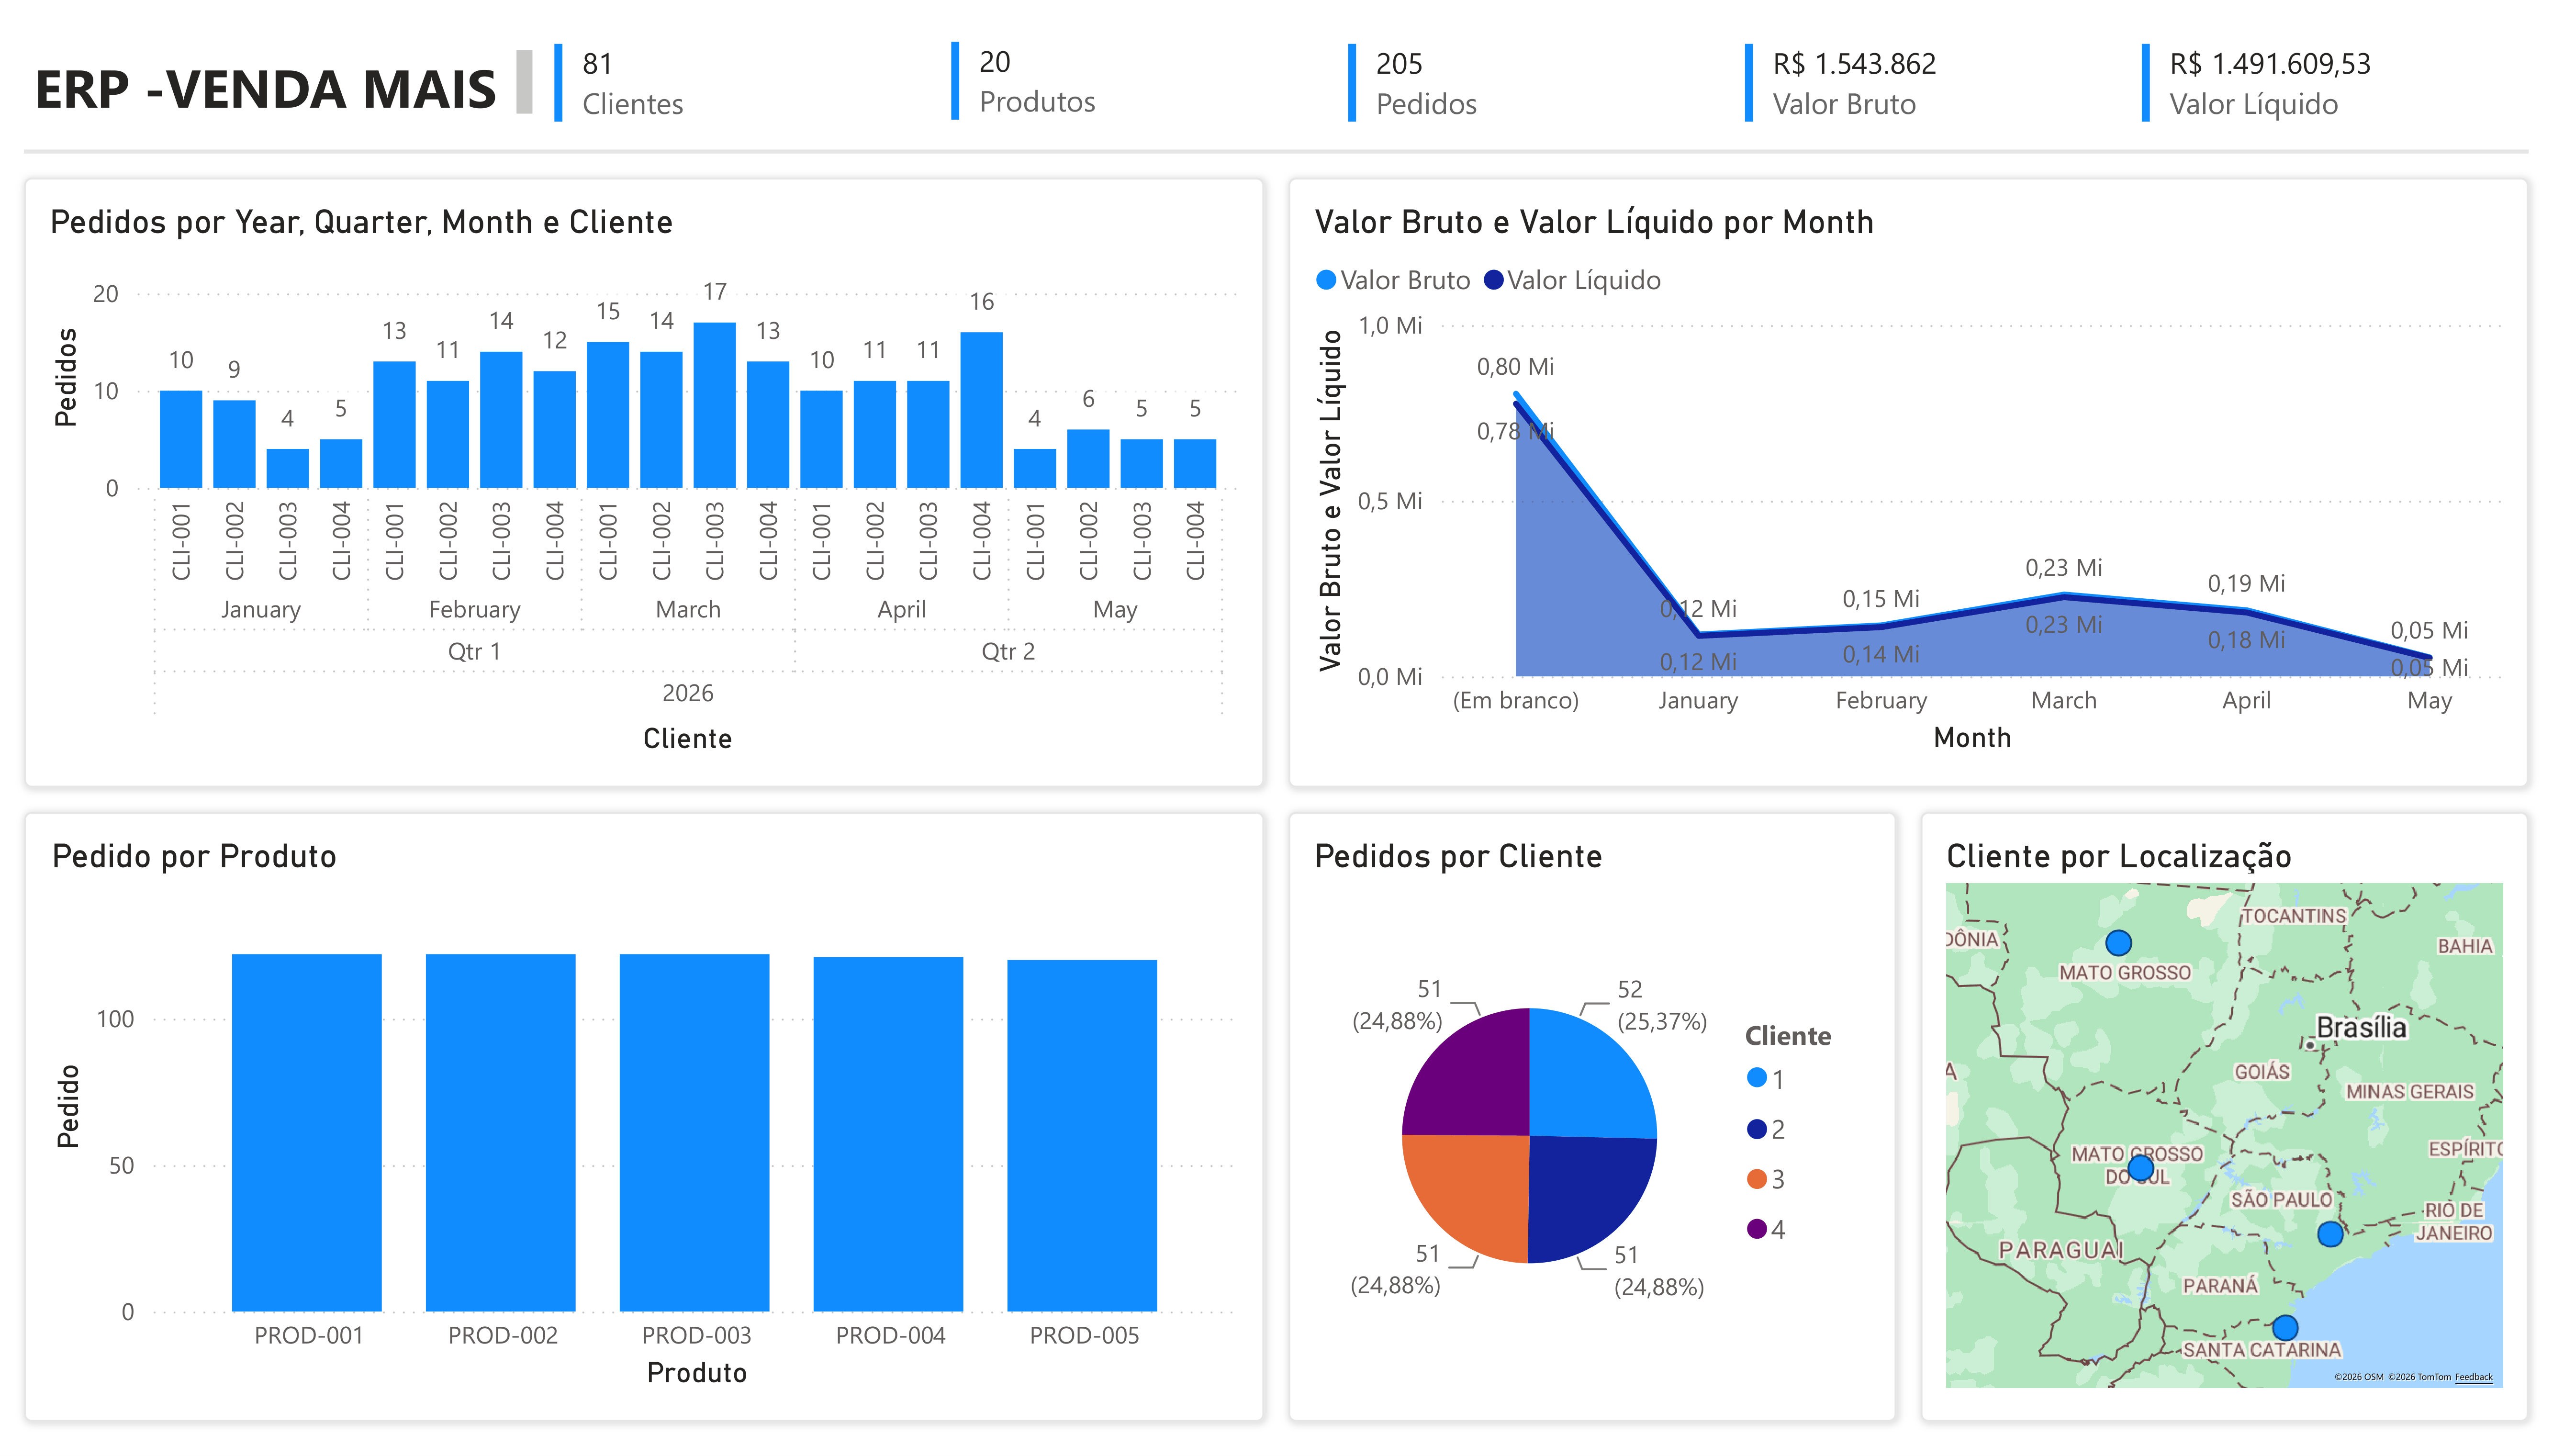

What the dashboard file says about the page in this screenshot:
{"tool":"powerbi","page":{"name":"Página 1","canvas":[1280,720],"ordinal":0},"visuals":[{"type":"shape","box":[12,58,1256,26],"z":0},{"type":"shape","box":[12.3,84,621.9,305.7],"z":1000},{"type":"shape","box":[646,84,622,306],"z":2000},{"type":"shape","box":[646,402,305,306],"z":3000},{"type":"shape","box":[963,402,305,306],"z":4000},{"type":"azureMap","fields":{"Category":["regiao.nm_cidade"],"Y":["Min(cliente.cd_cliente)"]},"box":[971,414,289,282],"z":5000},{"type":"pieChart","fields":{"Category":["pedido.id_cliente"],"Y":["CountNonNull(pedido.cd_registro_origem)"]},"box":[654,414,289,282],"z":6000},{"type":"areaChart","fields":{"Category":["pedido.dt_faturamento.Variação.Date Hierarchy.Year","pedido.dt_faturamento.Variação.Date Hierarchy.Quarter","pedido.dt_faturamento.Variação.Date Hierarchy.Month"],"Y":["Sum(pedido.vl_bruto)","Sum(pedido.vl_liquido)"]},"box":[654,96,606,282],"z":7000},{"type":"lineClusteredColumnComboChart","fields":{"Category":["pedido.dt_emissao.Variação.Date Hierarchy.Year","pedido.dt_emissao.Variação.Date Hierarchy.Quarter","pedido.dt_emissao.Variação.Date Hierarchy.Month","cliente.cd_cliente"],"Y":["CountNonNull(pedido.cd_registro_origem)"]},"box":[19.8,96.3,605.8,282.1],"z":8000},{"type":"multiRowCard","fields":{"Values":["Sum(pedido.vl_liquido)"]},"box":[1069,12,199,50],"z":9000},{"type":"textbox","box":[12.3,15.1,260.4,44.4],"z":10000},{"type":"multiRowCard","fields":{"Values":["Sum(pedido.vl_bruto)"]},"box":[870,12.3,199.1,50],"z":11000},{"type":"multiRowCard","fields":{"Values":["pedido.cd_registro_origem"]},"box":[670.9,12.3,199.1,50],"z":12000},{"type":"multiRowCard","fields":{"Values":["produto.cd_produto"]},"box":[471.8,11.3,199.1,50],"z":13000},{"type":"multiRowCard","fields":{"Values":["cliente.cd_cliente"]},"box":[272.7,12.3,199.1,50],"z":14000},{"type":"shape","box":[12.3,402,621.9,305.7],"z":15000},{"type":"lineClusteredColumnComboChart","fields":{"Category":["produto.cd_produto"],"Y":["CountNonNull(pedido_item.id_pedido)"]},"box":[20.8,414.3,605.8,282.1],"z":16001}]}

Visuals, with their boxes in screenshot pixels (x1, y1, x2, y2), scaled from the page's 1280x720 canvas onto the 2553x1456 screenshot:
shape: x1=24 y1=117 x2=2529 y2=170
shape: x1=24 y1=170 x2=1265 y2=788
shape: x1=1288 y1=170 x2=2529 y2=789
shape: x1=1288 y1=813 x2=1897 y2=1432
shape: x1=1921 y1=813 x2=2529 y2=1432
azureMap - regiao.nm_cidade x Min(cliente.cd_cliente): x1=1937 y1=837 x2=2513 y2=1408
pieChart - pedido.id_cliente x CountNonNull(pedido.cd_registro_origem): x1=1304 y1=837 x2=1881 y2=1408
areaChart - pedido.dt_faturamento.Variação.Date Hierarchy.Year x pedido.dt_faturamento.Variação.Date Hierarchy.Quarter: x1=1304 y1=194 x2=2513 y2=764
lineClusteredColumnComboChart - pedido.dt_emissao.Variação.Date Hierarchy.Year x pedido.dt_emissao.Variação.Date Hierarchy.Quarter: x1=40 y1=195 x2=1248 y2=765
multiRowCard - Sum(pedido.vl_liquido): x1=2132 y1=24 x2=2529 y2=125
textbox: x1=24 y1=31 x2=544 y2=120
multiRowCard - Sum(pedido.vl_bruto): x1=1735 y1=25 x2=2132 y2=126
multiRowCard - pedido.cd_registro_origem: x1=1338 y1=25 x2=1735 y2=126
multiRowCard - produto.cd_produto: x1=941 y1=23 x2=1338 y2=124
multiRowCard - cliente.cd_cliente: x1=544 y1=25 x2=941 y2=126
shape: x1=24 y1=813 x2=1265 y2=1431
lineClusteredColumnComboChart - produto.cd_produto x CountNonNull(pedido_item.id_pedido): x1=42 y1=838 x2=1250 y2=1408
